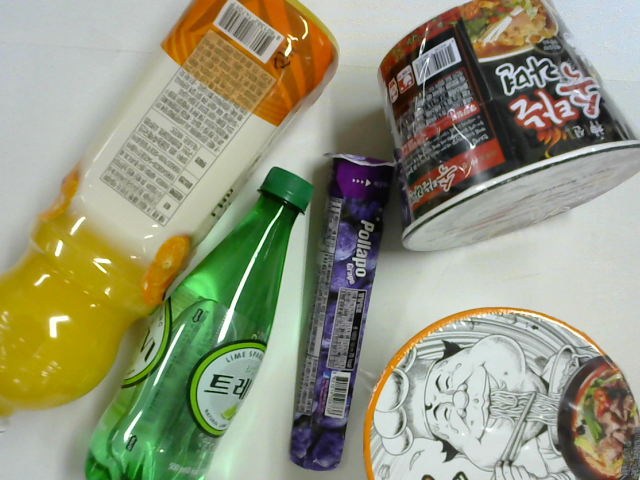HeJangsock: (380, 1, 640, 252)
Hejangchan: (366, 309, 640, 479)
Jeju_Tangerine_1.5L: (1, 1, 338, 440)
Polapo_Grape: (292, 148, 398, 473)
Treviraim_500ml: (78, 165, 311, 480)
